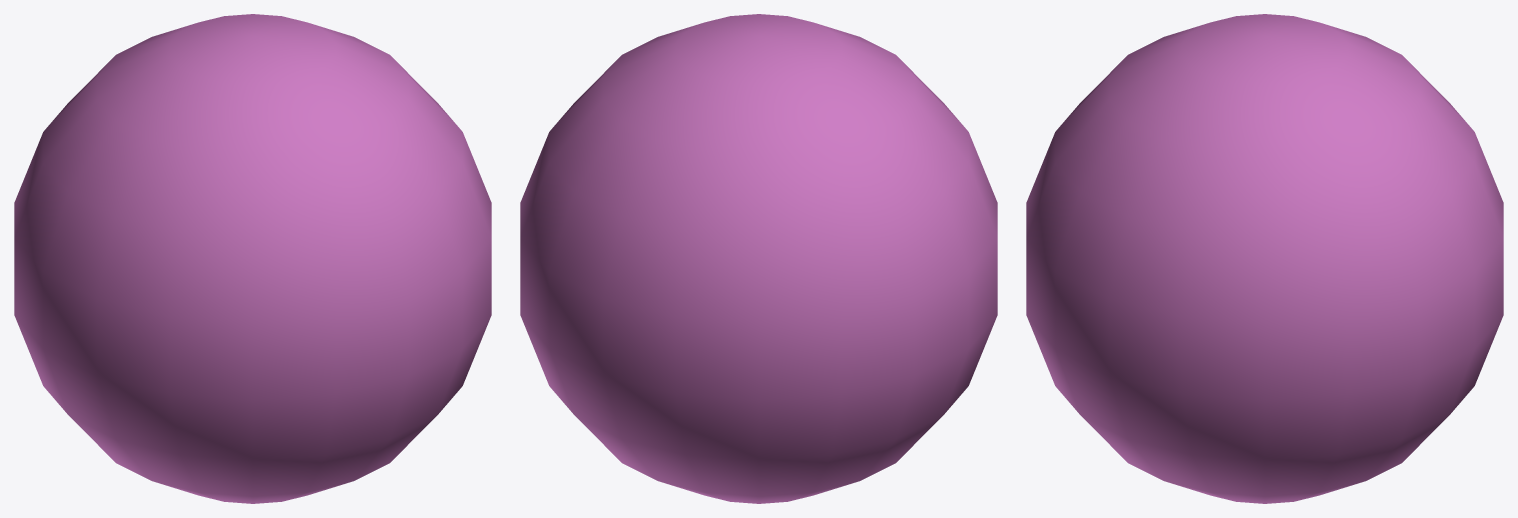
Rendered from sphereN2.obj.
3 renders of one model, left to right at view 1: azimuth 30°, elevation 25°; view 2: azimuth 150°, elevation 25°; view 3: azimuth 270°, elevation 25°, orthographic.
Size of the model in its own units: 1.97 by 2 by 1.94.
